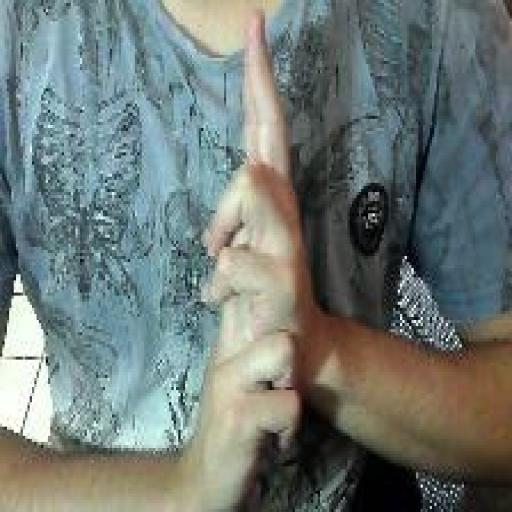Hitsuji -ram-: (196, 4, 314, 510)
